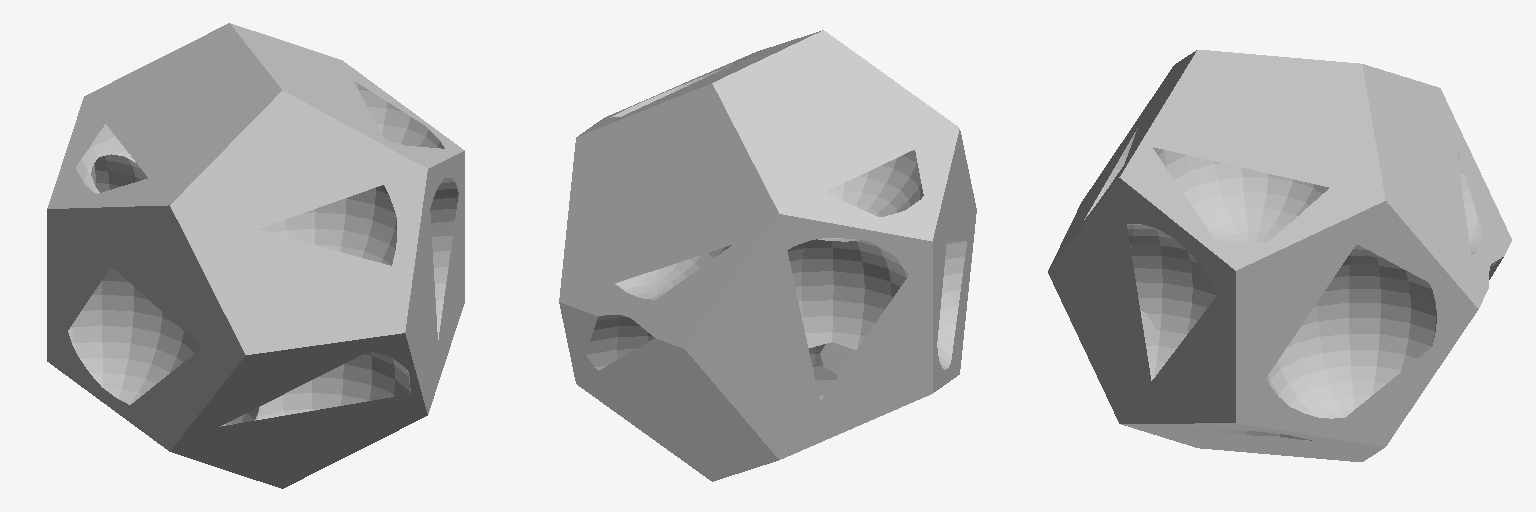
File: whole.obj
3 renders of one model, left to right at view 1: azimuth 30°, elevation 25°; view 2: azimuth 150°, elevation 25°; view 3: azimuth 270°, elevation 25°, orthographic.
Parts seen in each view (by area): view 1: whole:pSolid13 whole:polySurface1 group16; view 2: whole:pSolid13 whole:polySurface1 group16; view 3: whole:pSolid13 whole:polySurface1 group16.
Part boxes in pixels (bbox=[...]): whole:pSolid13 whole:polySurface1 group16: bbox=[47, 23, 464, 488]; whole:pSolid13 whole:polySurface1 group16: bbox=[559, 30, 976, 481]; whole:pSolid13 whole:polySurface1 group16: bbox=[1048, 50, 1511, 461].
Size of the model in its own units: 1.83 by 1.87 by 1.97.